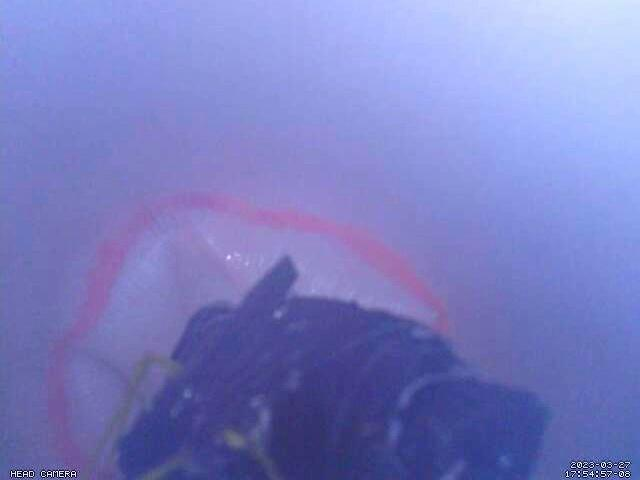head: (42, 191, 450, 480)
